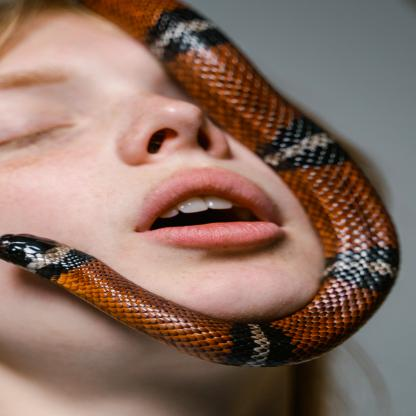Eye: (1, 97, 81, 153)
Mouth: (122, 174, 298, 254)
Nose: (106, 100, 235, 162)
